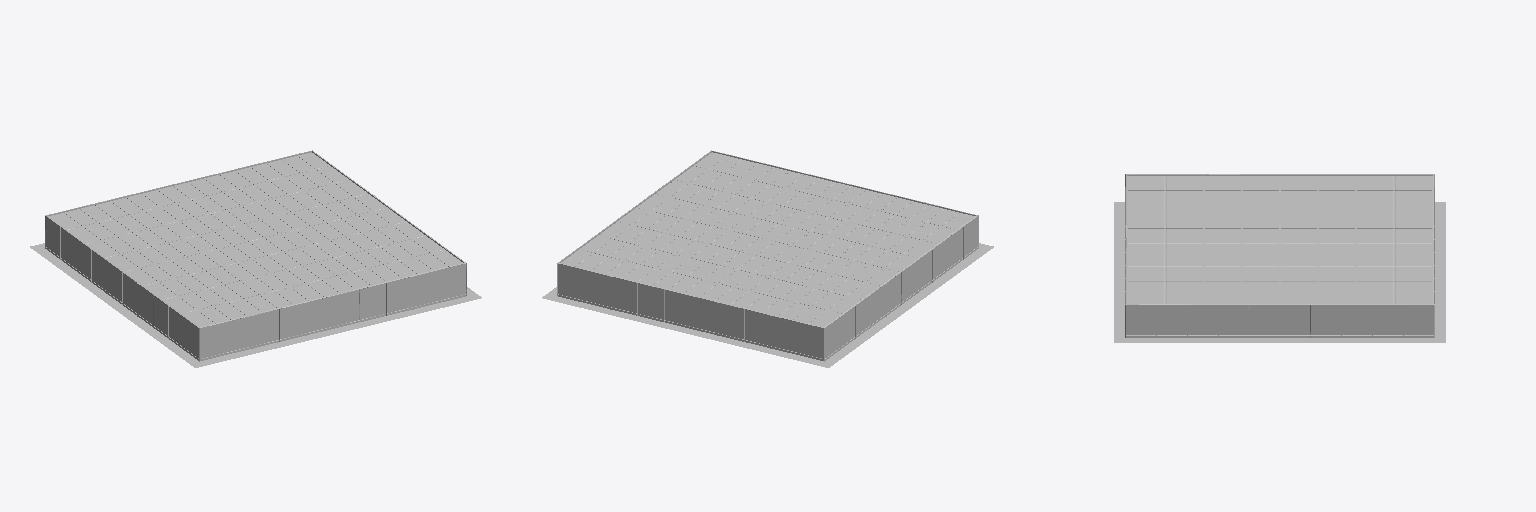
File: showroom 2.obj
3 views of the same model, side by side, from view 1: azimuth 30°, elevation 25°; view 2: azimuth 150°, elevation 25°; view 3: azimuth 270°, elevation 25° (orthographic).
Visible parts, largest first — view 1: Plane.001, Plane.002; view 2: Plane.001, Plane.002; view 3: Plane.001, Plane.002.
Part boxes in pixels (left/top/right/bottom): Plane.001: left=45, top=150, right=466, bottom=361; Plane.002: left=30, top=243, right=481, bottom=367; Plane.001: left=557, top=150, right=978, bottom=361; Plane.002: left=542, top=243, right=993, bottom=367; Plane.001: left=1125, top=174, right=1434, bottom=337; Plane.002: left=1114, top=202, right=1445, bottom=342.
Bounding box in the file's own units: 28.62 × 3.23 × 28.62.